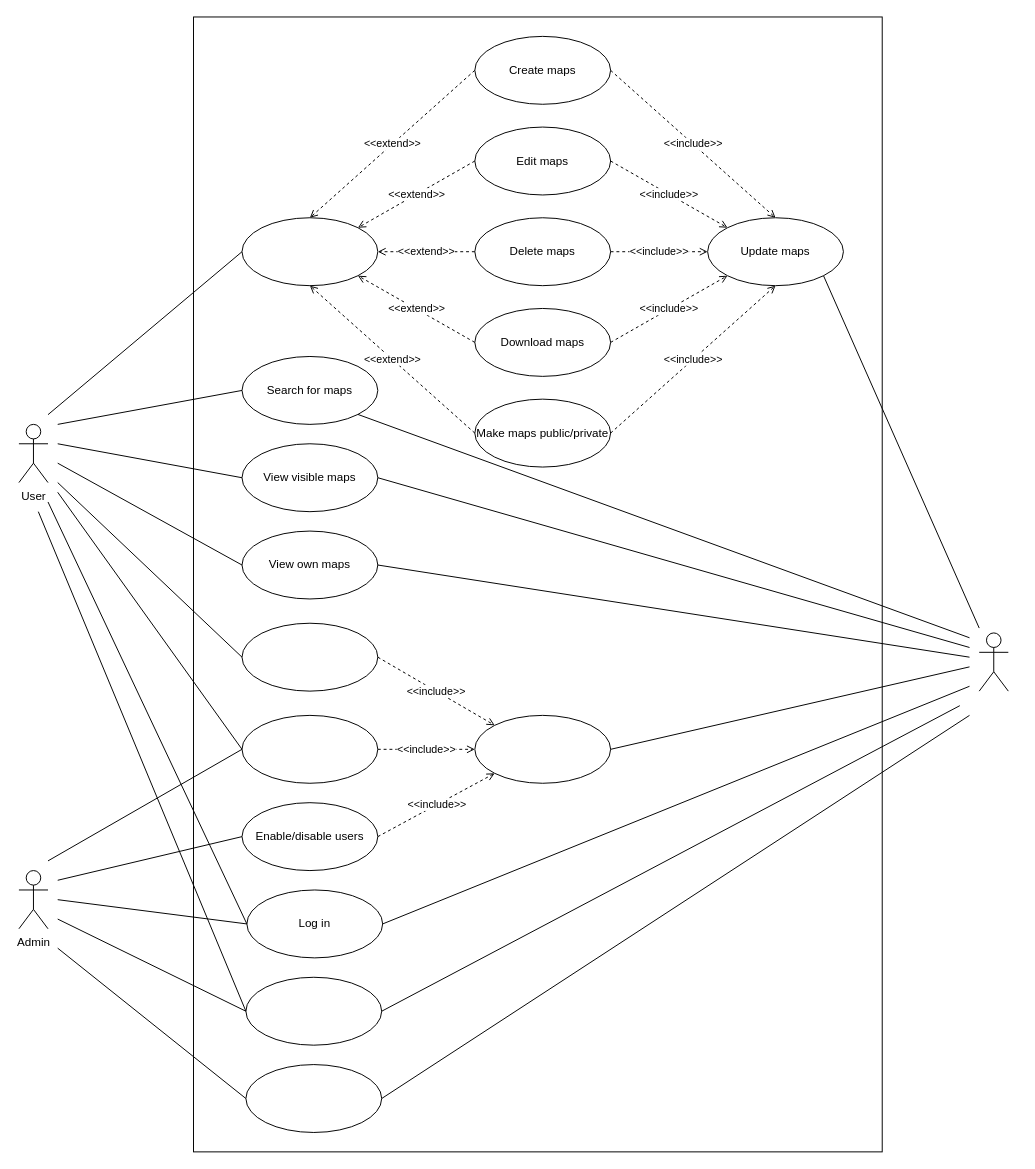
Image size: 1035x1169. Some labels were removed from this diagram. Each missing label, with the centre of its shape:
"Database" goes at point 993,661.
"Edit profile" goes at point 309,748.
"Interact with maps" goes at point 309,251.
"Log out" goes at point 313,1010.
"Search for users" goes at point 313,1098.
"Sign up" goes at point 309,656.
"Update users" goes at point 542,748.
